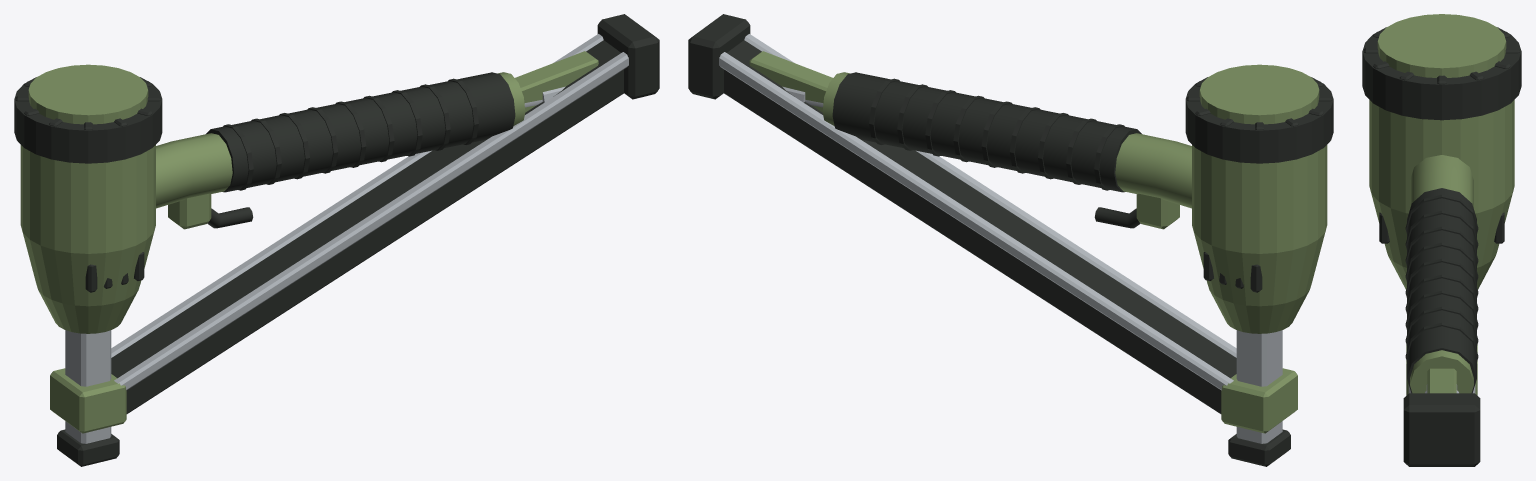
Rendered from A-NEW-20261026-FRAMING-NAILER-001_LOD2_R1.fbx.
The picture shows the model from 3 angles, left to right: view 1: azimuth 30°, elevation 25°; view 2: azimuth 150°, elevation 25°; view 3: azimuth 270°, elevation 25°; orthographic projection. The views are drawn at different scales.
Parts seen in each view (by area): view 1: magazine closed lower channel, main cylinder housing, rubber grip, magazine upper rail -1, rounded rib cap, cap center cover, rear handle core, magazine upper rail 1, magazine nose anchor, magazine rear stopper, contact nose, rear grip magazine brace (+3 smaller); view 2: magazine closed lower channel, main cylinder housing, rubber grip, magazine upper rail 1, rounded rib cap, cap center cover, rear handle core, magazine upper rail -1, magazine nose anchor, magazine rear stopper, contact nose, rear grip magazine brace (+3 smaller); view 3: main cylinder housing, rubber grip, rounded rib cap, cap center cover, magazine rear stopper, rear handle core, rear grip magazine brace, grip band 0, grip band 1, grip band 4, grip band 2, grip band 3 (+6 smaller).
Part boxes in pixels (x1,y1,x2,y2): magazine closed lower channel: (111,40,623,413); main cylinder housing: (20,145,155,333); rubber grip: (206,72,515,192); magazine upper rail -1: (114,52,628,390); rounded rib cap: (14,77,162,163); cap center cover: (28,64,148,124); rear handle core: (156,72,525,208); magazine upper rail 1: (111,34,603,357); magazine nose anchor: (50,368,126,433); magazine rear stopper: (597,14,659,99); contact nose: (65,330,111,443); rear grip magazine brace: (515,51,598,112); magazine closed lower channel: (724,40,1236,413); main cylinder housing: (1192,145,1327,333); rubber grip: (832,72,1141,192); magazine upper rail 1: (719,52,1233,390); rounded rib cap: (1185,77,1333,163); cap center cover: (1199,64,1319,124); rear handle core: (822,72,1191,208); magazine upper rail -1: (744,34,1236,357); magazine nose anchor: (1221,368,1297,433); magazine rear stopper: (688,14,750,99); contact nose: (1236,330,1282,443); rear grip magazine brace: (749,51,832,112); main cylinder housing: (1369,100,1514,289); rubber grip: (1407,188,1476,393); rounded rib cap: (1362,27,1521,120); cap center cover: (1377,14,1506,77); magazine rear stopper: (1403,393,1480,466); rear handle core: (1410,155,1473,393); rear grip magazine brace: (1427,368,1456,393); grip band 0: (1405,194,1478,233); grip band 1: (1405,210,1478,249); grip band 4: (1405,258,1478,297); grip band 2: (1405,226,1478,265); grip band 3: (1405,242,1478,281).
Size of the model in its own units: 55.1 by 31 by 11.4.
